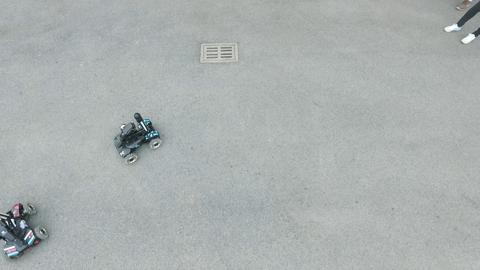chariot: (113, 111, 163, 167), (1, 200, 48, 258)
